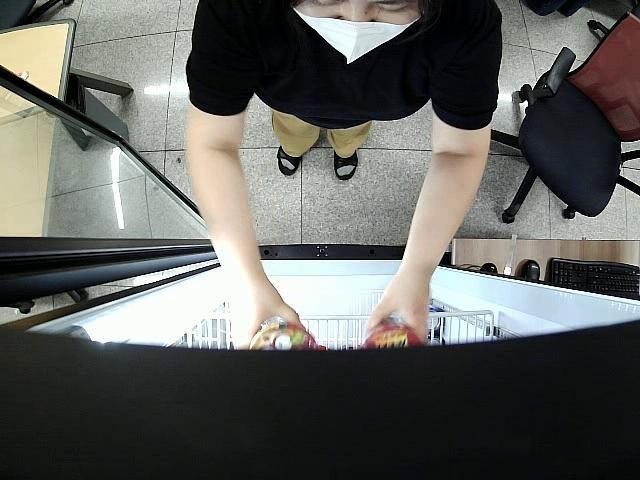06_nuguri_S: (248, 316, 321, 354), (358, 322, 427, 351)
